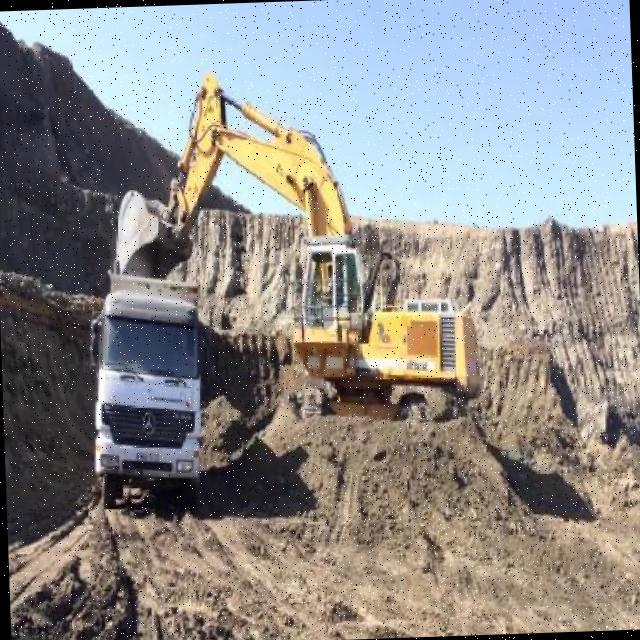Dump Truck: (86, 274, 200, 513)
Excavator: (93, 53, 487, 443)
